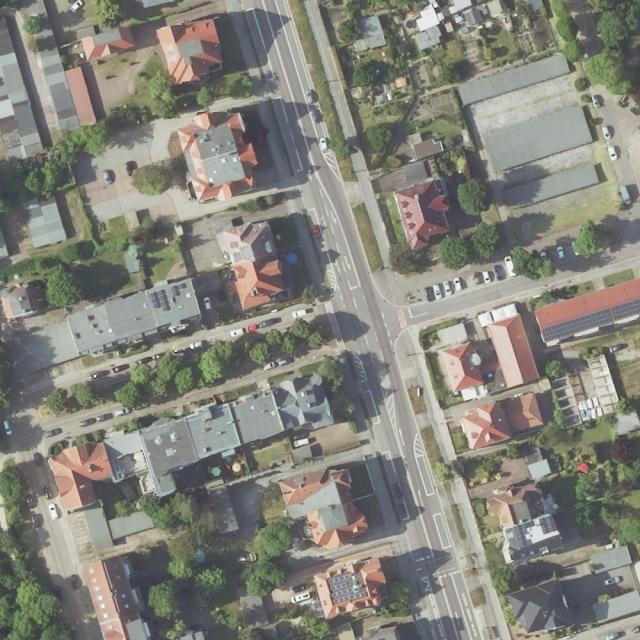PV: (541, 298, 640, 342), (329, 574, 366, 603), (513, 520, 535, 549), (150, 289, 173, 314), (539, 514, 557, 534), (169, 282, 188, 297)
